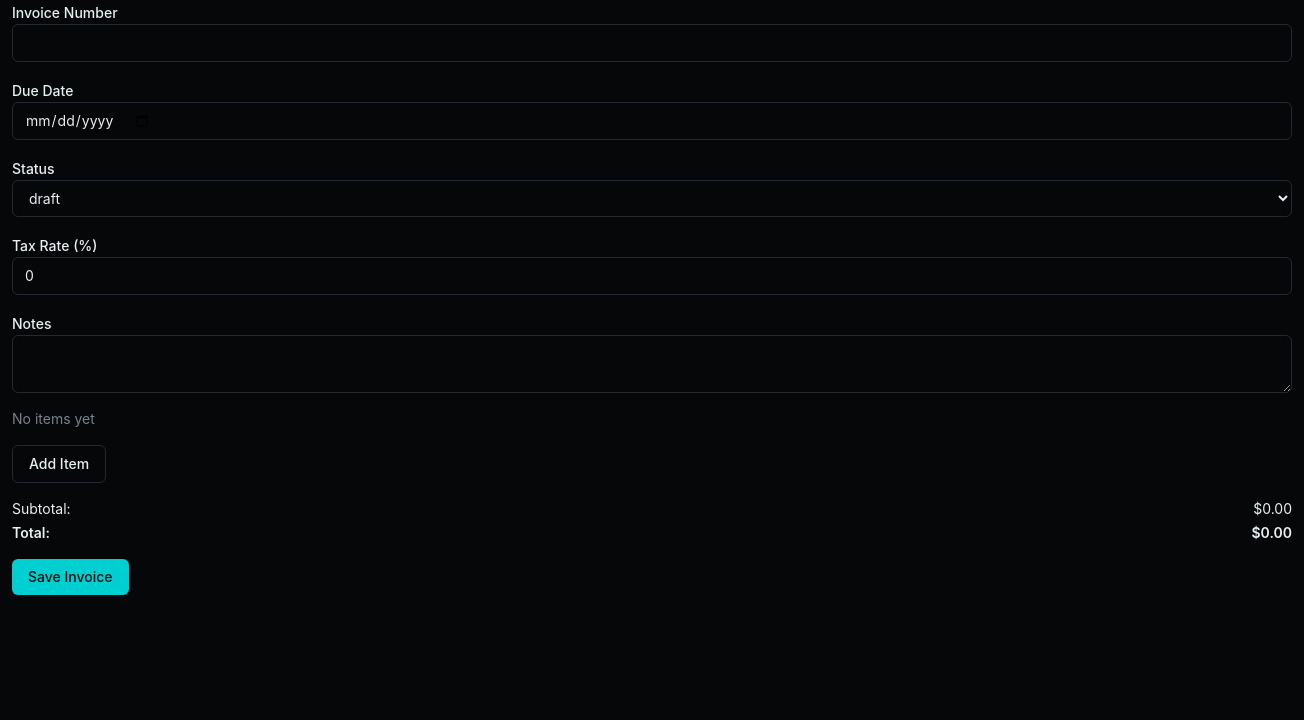
Scenario: InvoiceForm › should validate invoice number is required
Click the button "Save Invoice": (70, 577) [12,559,129,595]
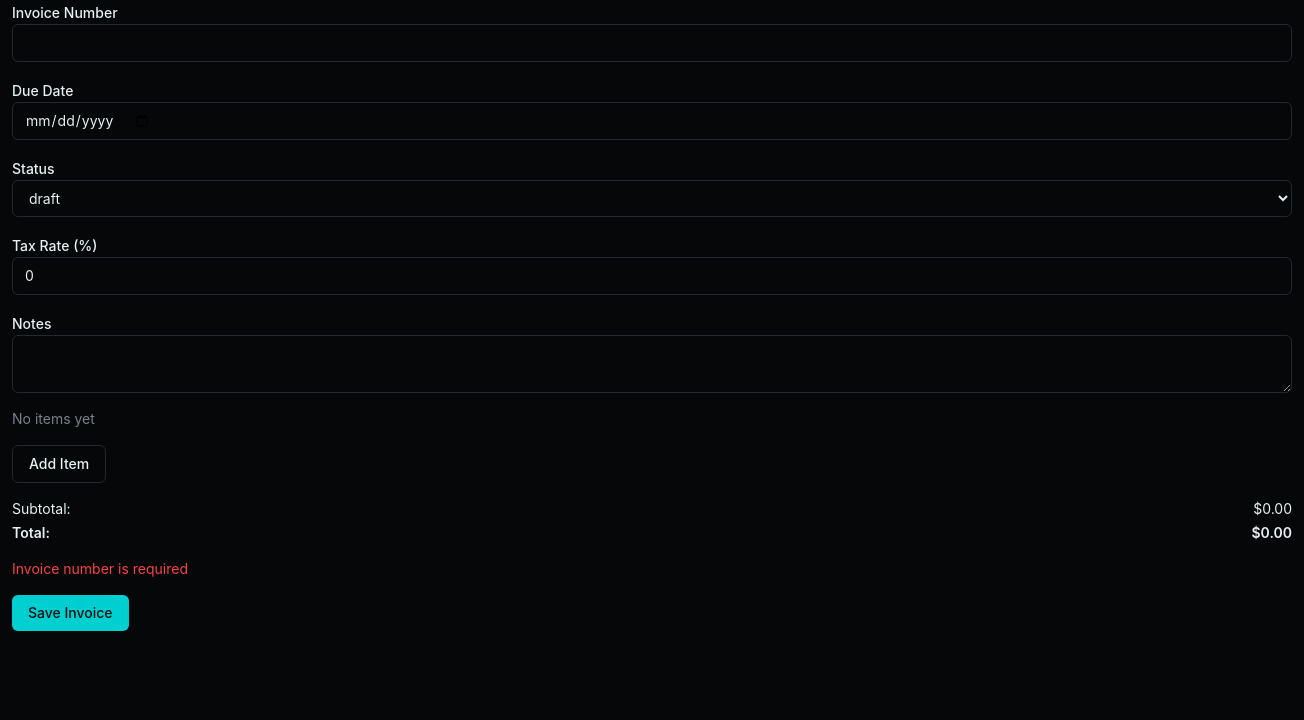
Now the text "Invoice number is required" is shown, box [12,560,188,577]
